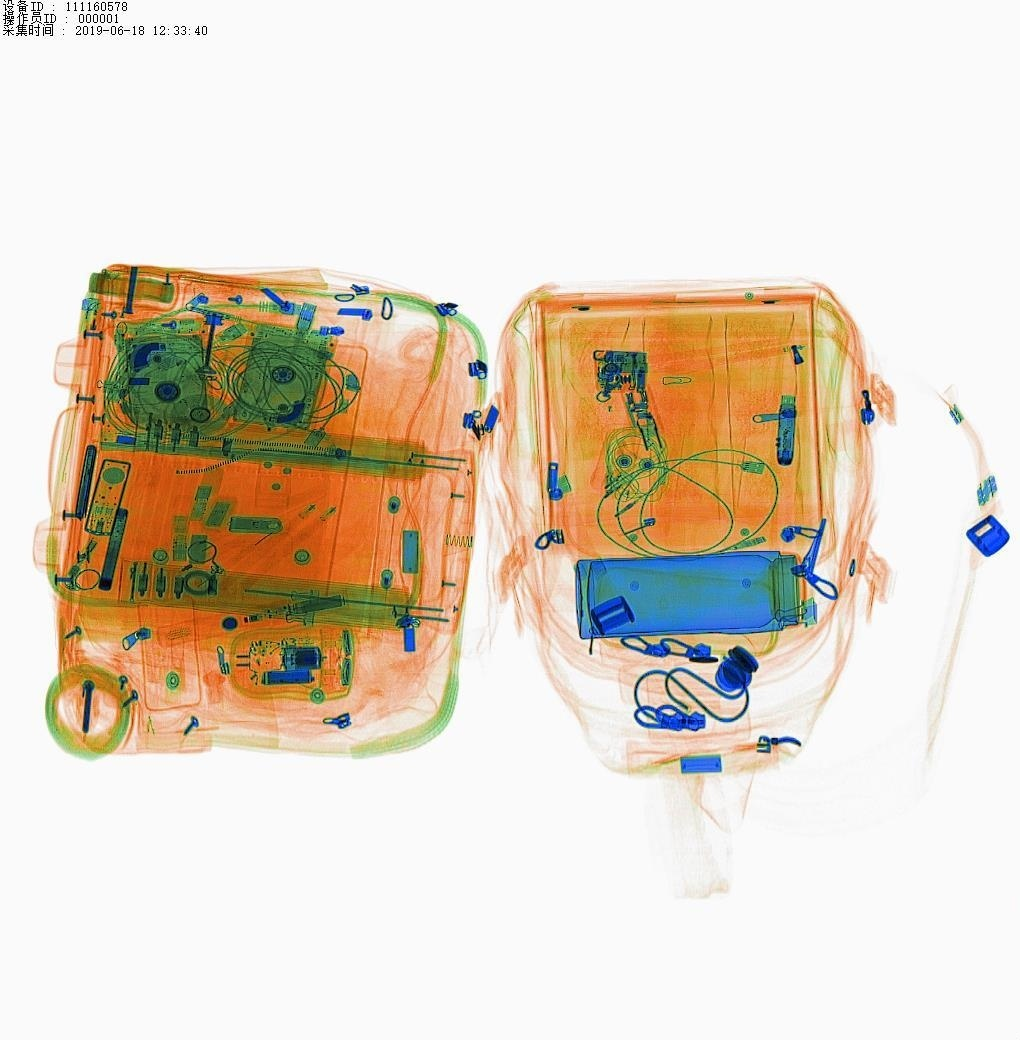NonmetallicFire: (60, 292, 125, 385)
